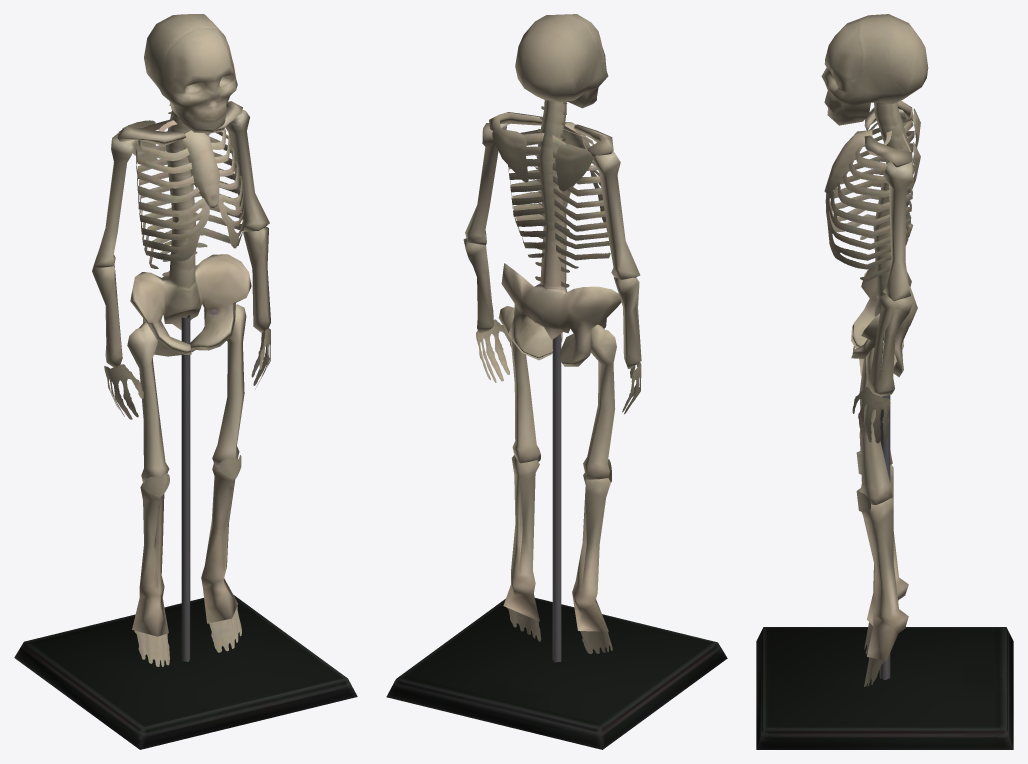
3 views of the same model, side by side, from view 1: azimuth 30°, elevation 25°; view 2: azimuth 150°, elevation 25°; view 3: azimuth 270°, elevation 25° (orthographic). The views are drawn at different scales.
Size of the model in its own units: 6.83 by 19.82 by 6.84.
2 materials, 2 textured.
